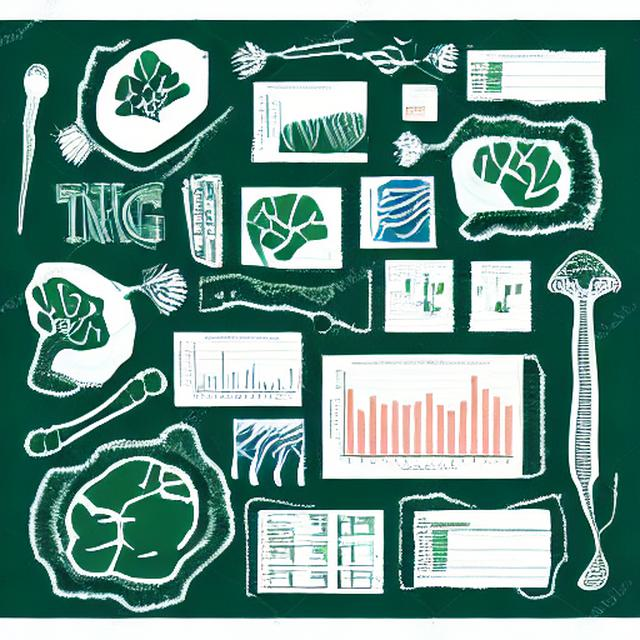Graph: (324, 358, 520, 477), (177, 334, 296, 404)
